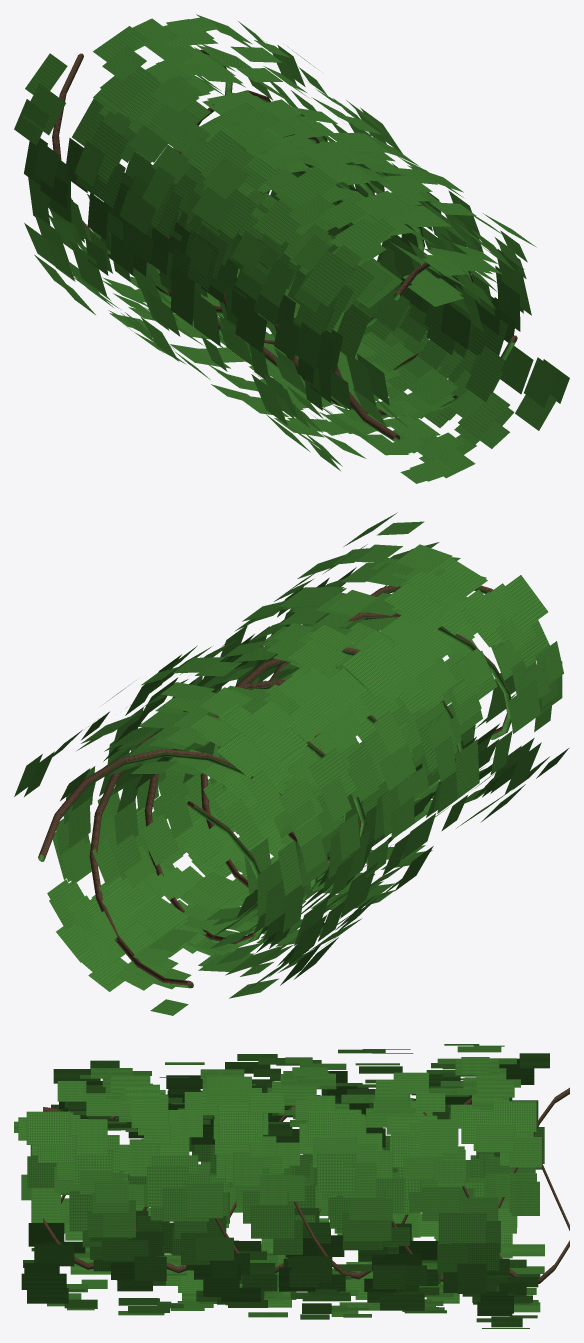
File: veg_vine_wisteria_01.glb
The picture shows the model from 3 angles, top to bottom: view 1: azimuth 30°, elevation 25°; view 2: azimuth 150°, elevation 25°; view 3: azimuth 270°, elevation 25°; orthographic projection. The views are drawn at different scales.
Parts seen in each view (by area): view 1: veg_vine_wisteria_01; view 2: veg_vine_wisteria_01; view 3: veg_vine_wisteria_01.
Boxes of the visible parts, left/top/right/bottom form: veg_vine_wisteria_01: left=14, top=14, right=569, bottom=483; veg_vine_wisteria_01: left=14, top=512, right=568, bottom=1015; veg_vine_wisteria_01: left=14, top=1044, right=569, bottom=1328.
Bounding box in the file's own units: 1.59 × 1.59 × 3.2.
Materials: 1 (1 with a texture image).
